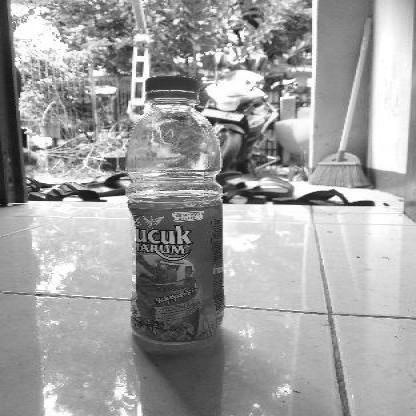plastic_bottles: (121, 74, 232, 358)
